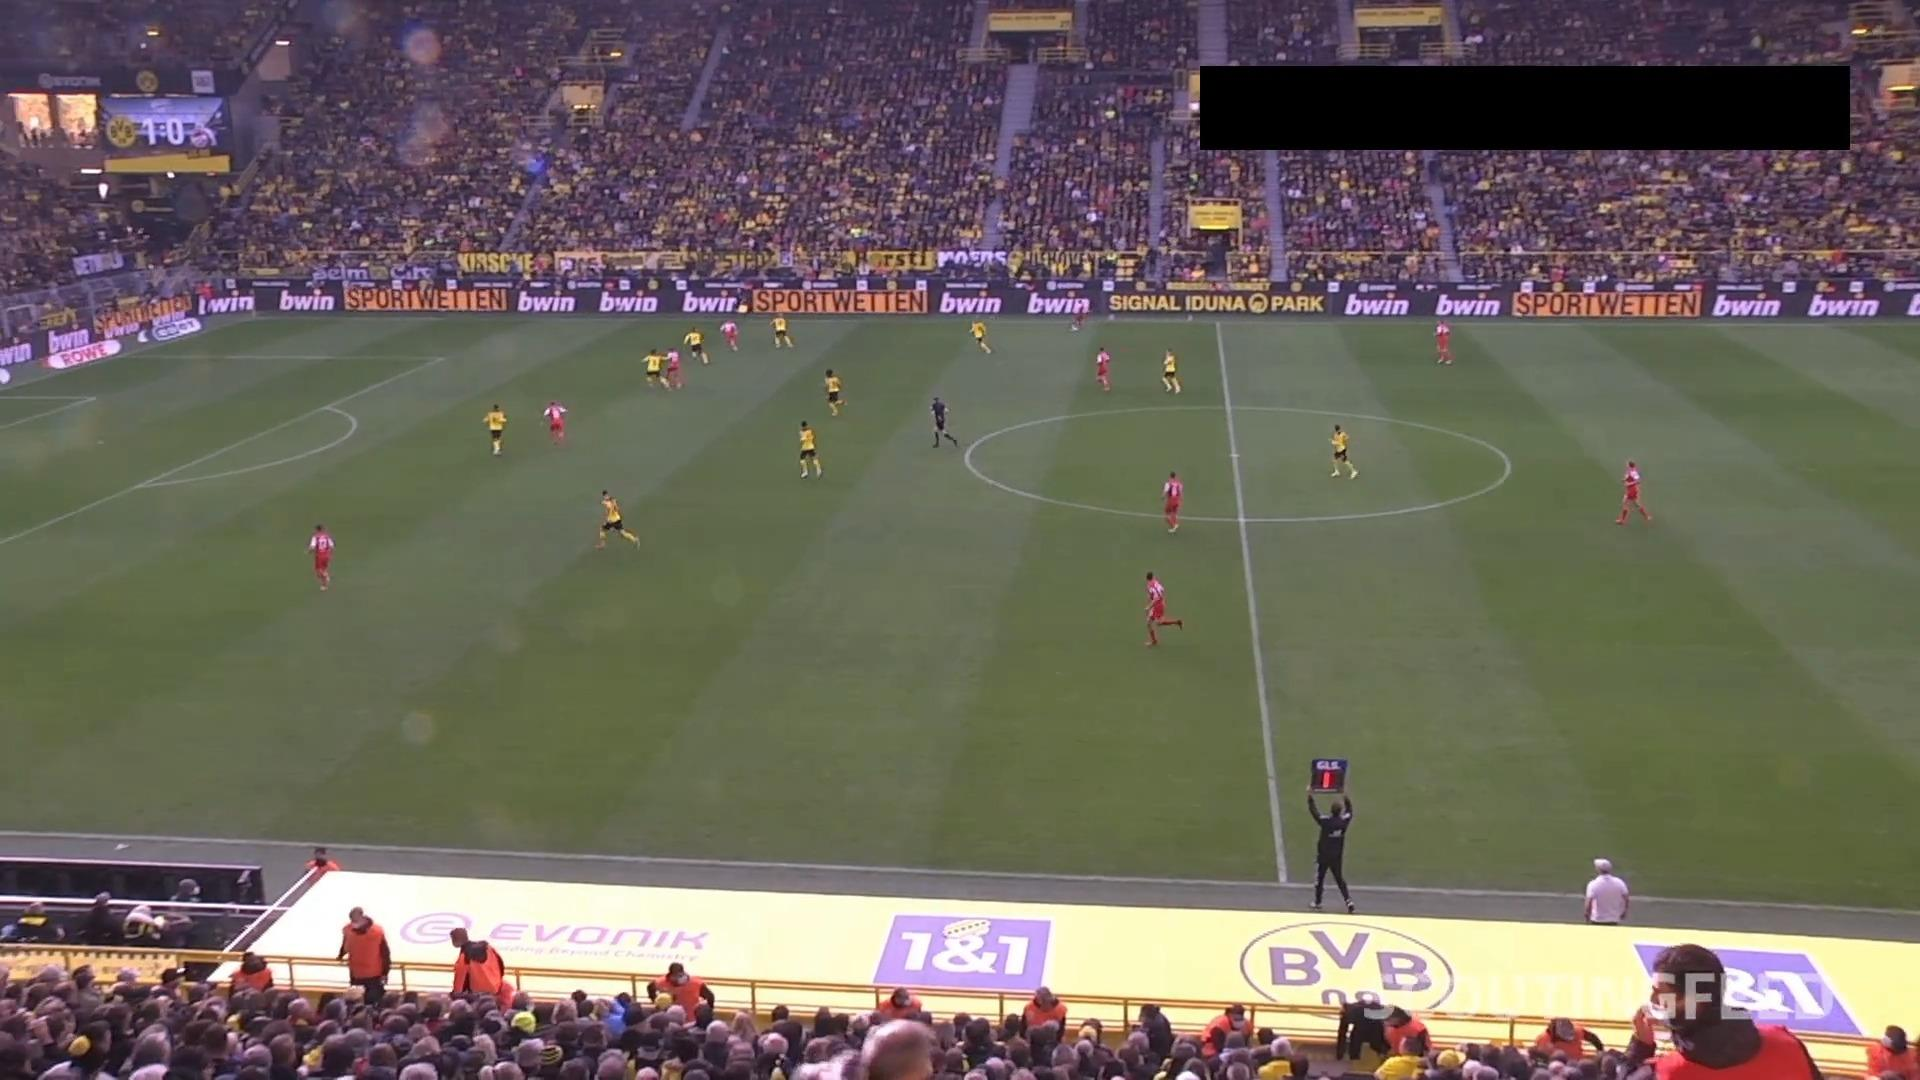coach: (336, 905, 391, 1006), (1582, 856, 1629, 924)
player: (1142, 570, 1183, 646), (594, 488, 640, 550), (1614, 458, 1652, 524), (306, 523, 335, 591), (1328, 423, 1358, 479), (796, 419, 822, 479), (1161, 470, 1182, 532), (482, 402, 506, 456), (640, 347, 668, 389), (822, 367, 846, 415), (541, 400, 567, 444), (682, 327, 709, 365), (1160, 347, 1180, 393), (1433, 319, 1453, 364), (662, 348, 683, 389), (770, 313, 794, 348), (969, 318, 991, 354), (1094, 345, 1111, 391), (1068, 296, 1089, 332), (718, 318, 739, 352)
referee: (1304, 760, 1357, 914), (929, 396, 958, 447), (733, 286, 749, 315)
